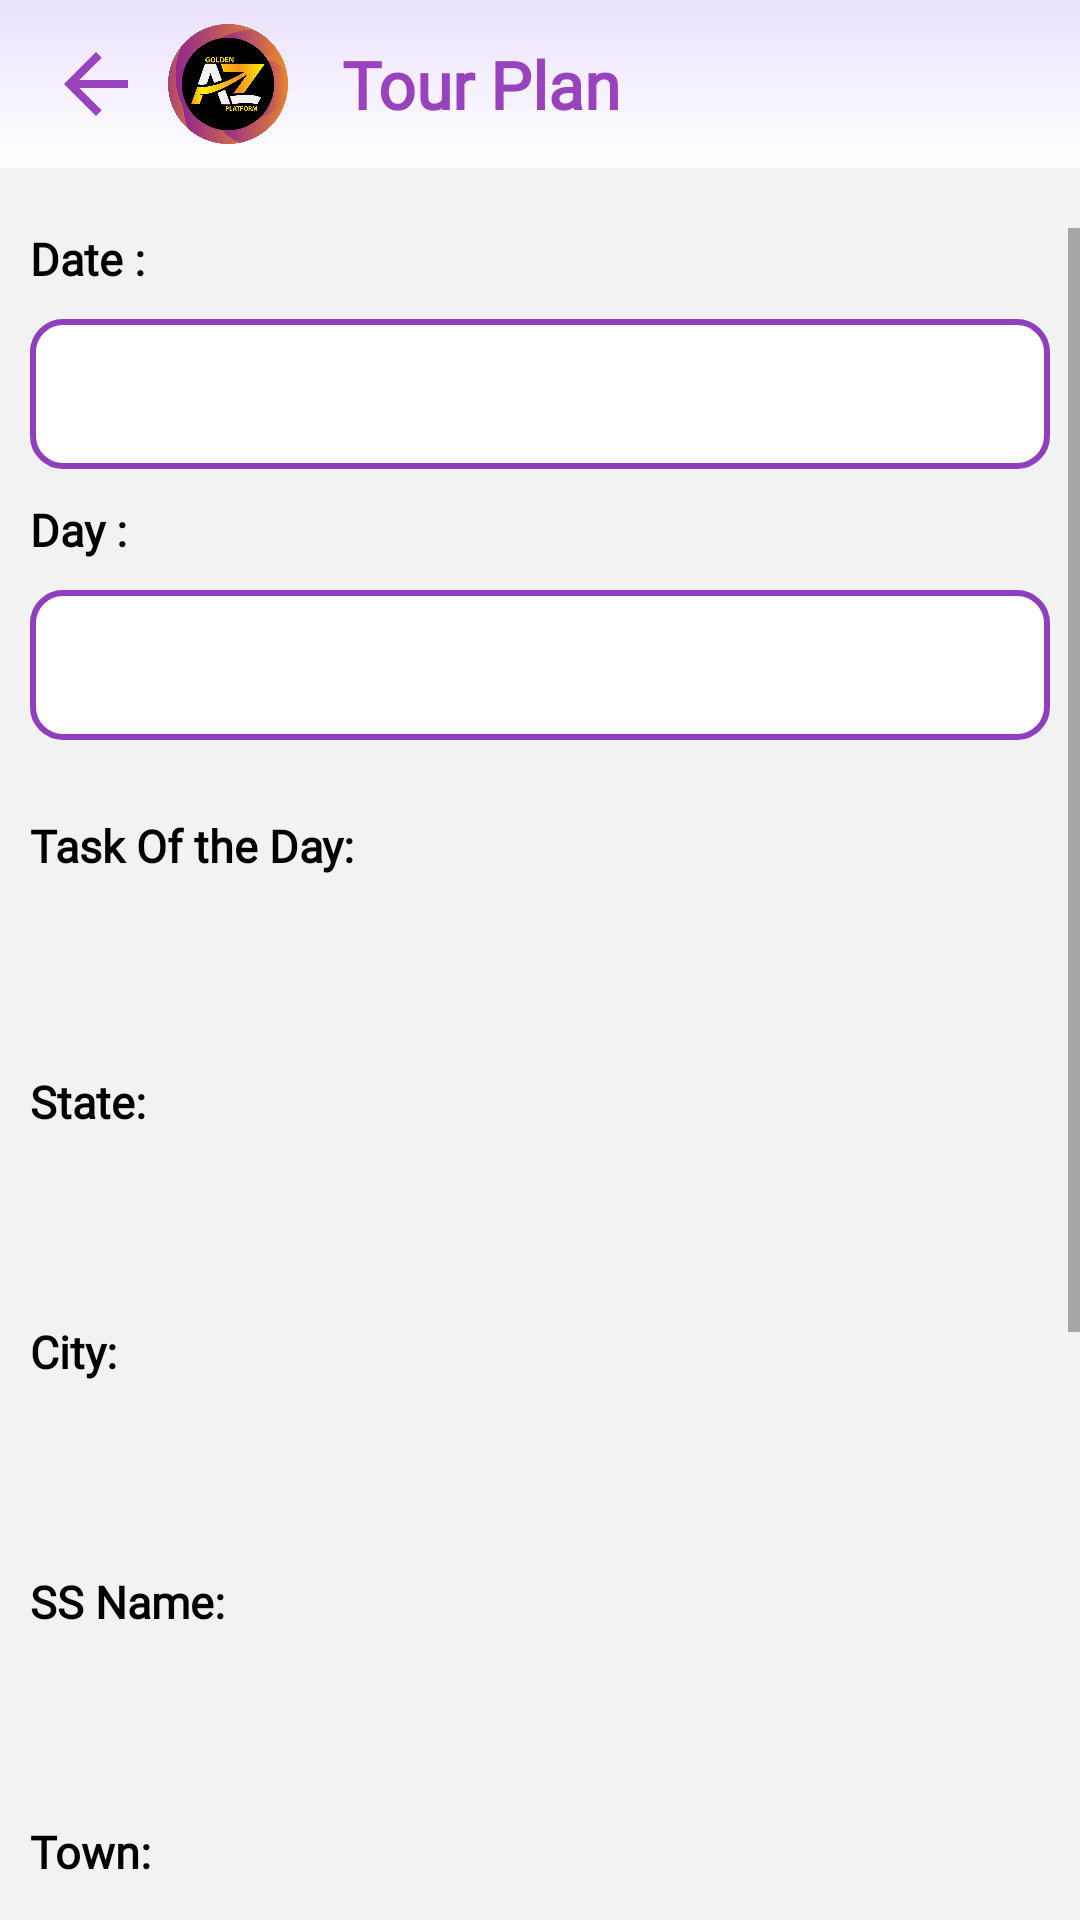

Icon click points for this 1080px x 1920px phone screenshot, format (x=x, y=y):
arrow back: (x=96, y=84)
